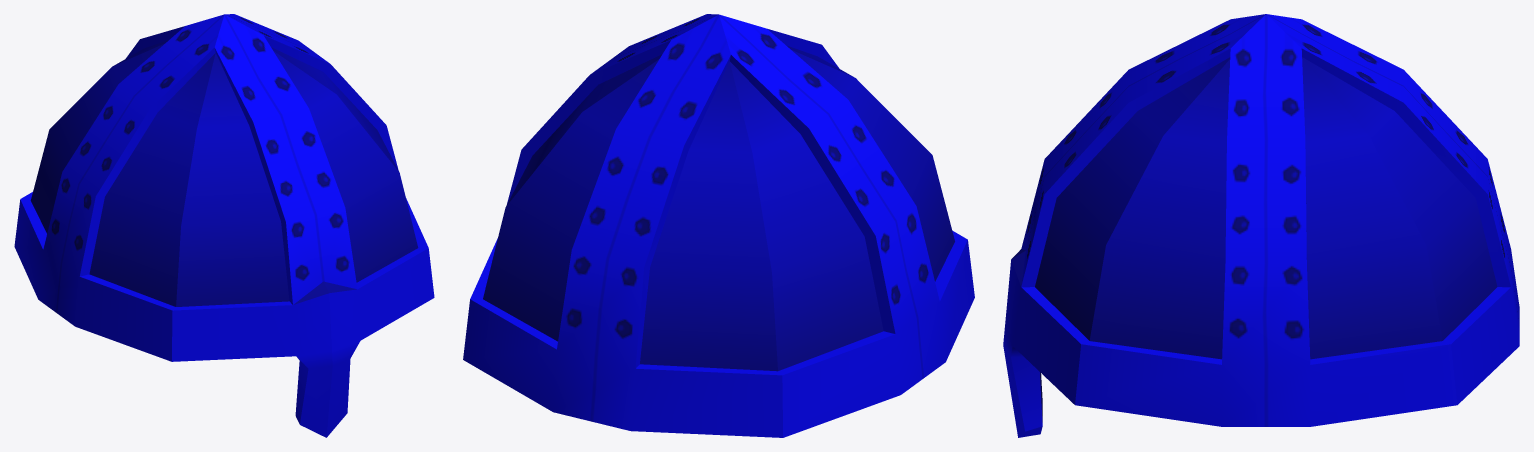
File: ConicalHelm_M.fbx
3 views of the same model, side by side, from view 1: azimuth 30°, elevation 25°; view 2: azimuth 150°, elevation 25°; view 3: azimuth 270°, elevation 25° (orthographic). The views are drawn at different scales.
Visible parts, largest first — view 1: ConicalHelm_M; view 2: ConicalHelm_M; view 3: ConicalHelm_M.
Boxes of the visible parts, x1=… form: ConicalHelm_M: x1=14, y1=14, x2=434, y2=437; ConicalHelm_M: x1=463, y1=14, x2=974, y2=437; ConicalHelm_M: x1=1003, y1=14, x2=1519, y2=437.
Size of the model in its own units: 29.37 by 29.18 by 32.22.
